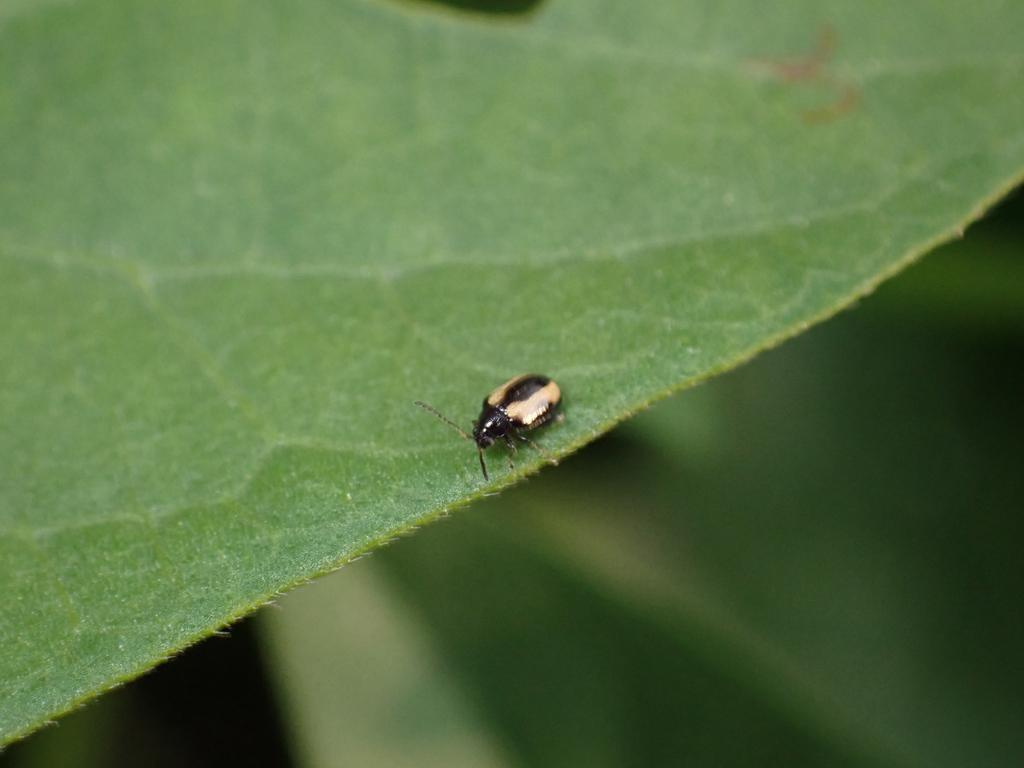flea_beetle: (396, 339, 589, 498)
